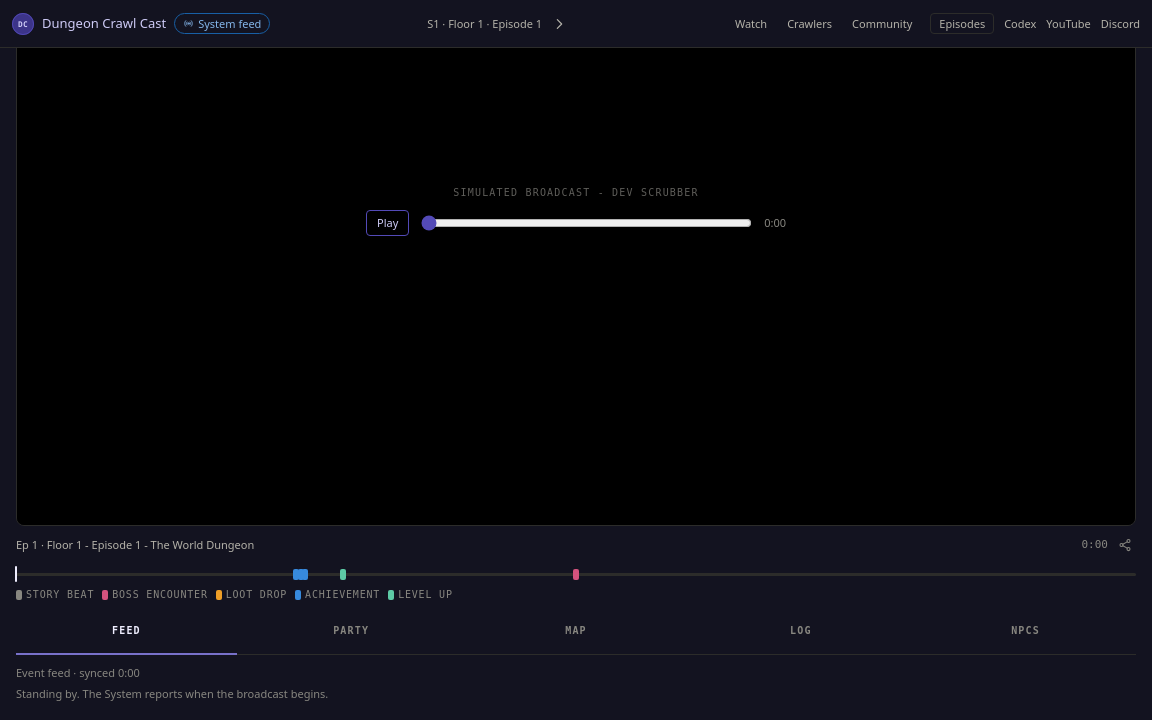
Scenario: EpisodePage on a phone › browses the Registry as a sheet over the NPCs pane (007 R3)
The image size is (1152, 720).
(page scrolled)
Click the tab with test id "tab-npcs" at (1026,632), box [915,610,1136,654]
(page scrolled)
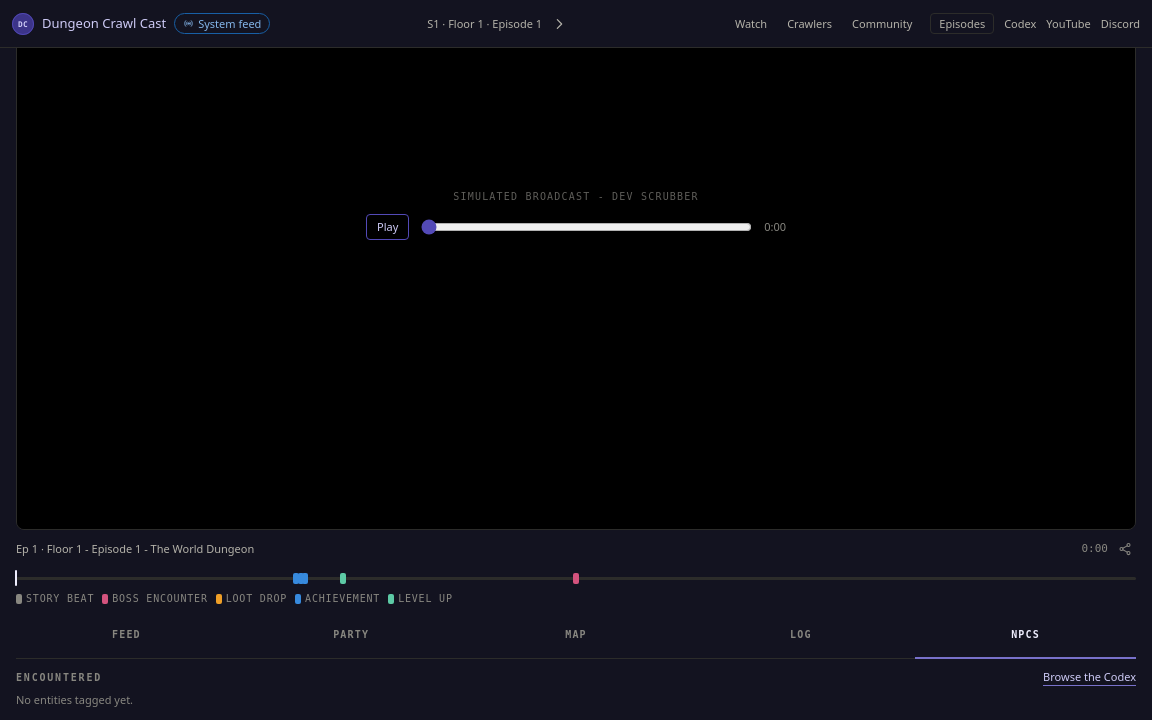
Check: the button with test id "encounter-browse" reads "Browse the Codex"
Click the button with test id "encounter-browse" at (1090,677), box [1043,668,1136,686]
(page scrolled)
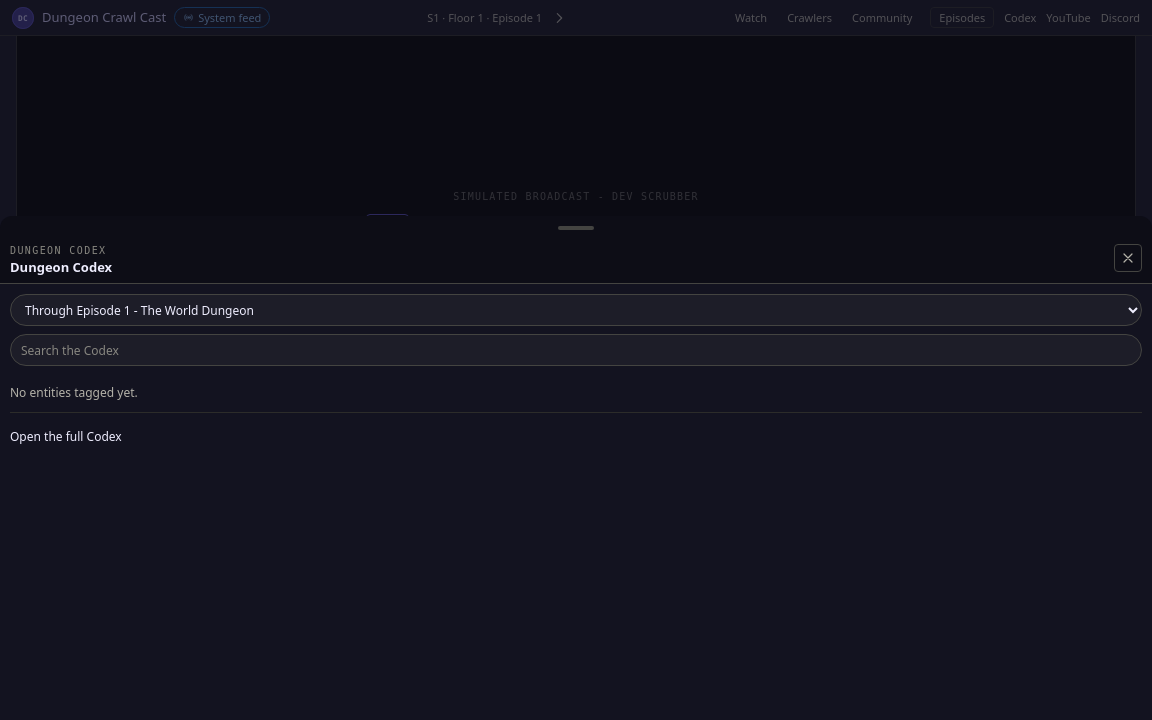
Check: the text "DUNGEON CODEX" is shown, box [10,245,106,256]
Check: the element with test id "registry-browser" is shown, box [10,294,1142,453]
Check: the dropdown with test id "registry-scope" shows "Through Episode 1 - The World Dungeon", box [10,294,1142,326]
Click the button with test id "panel-close" at (1128,258), box [1114,244,1142,272]
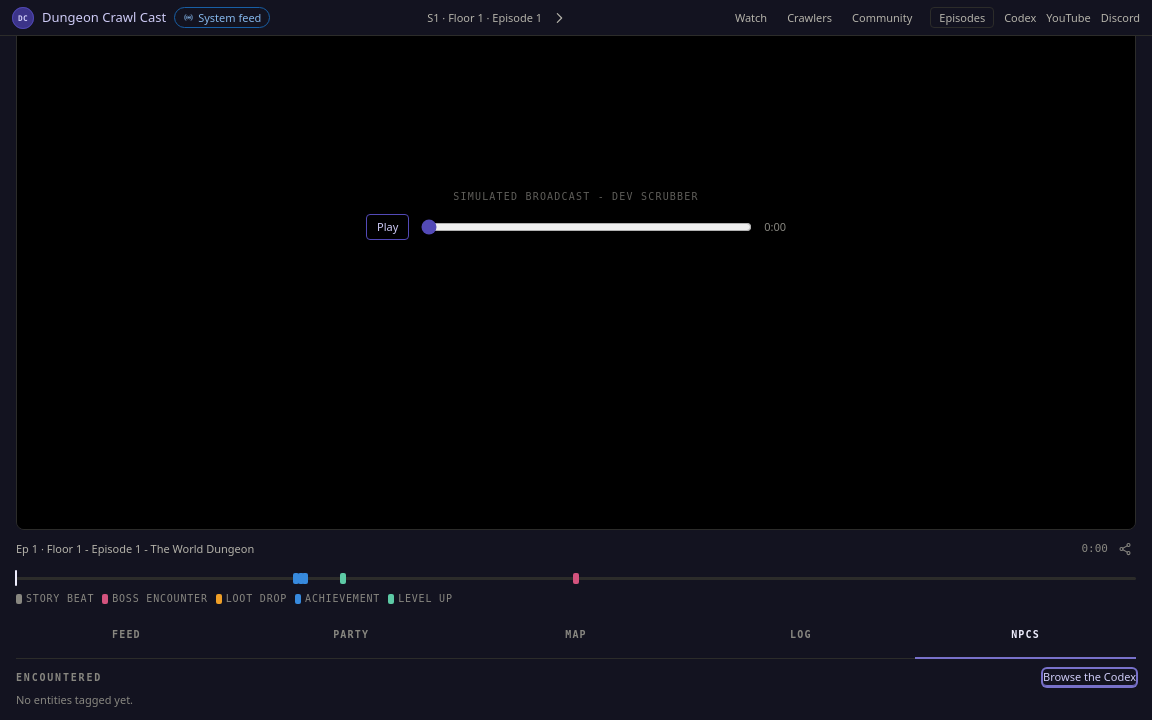
Check: the element with test id "registry-browser" is gone
